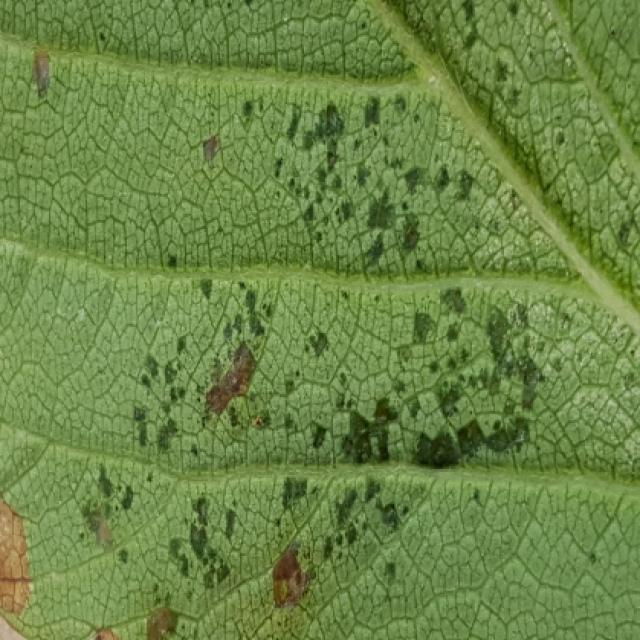Angular Leafspot: (0, 0, 638, 638)
